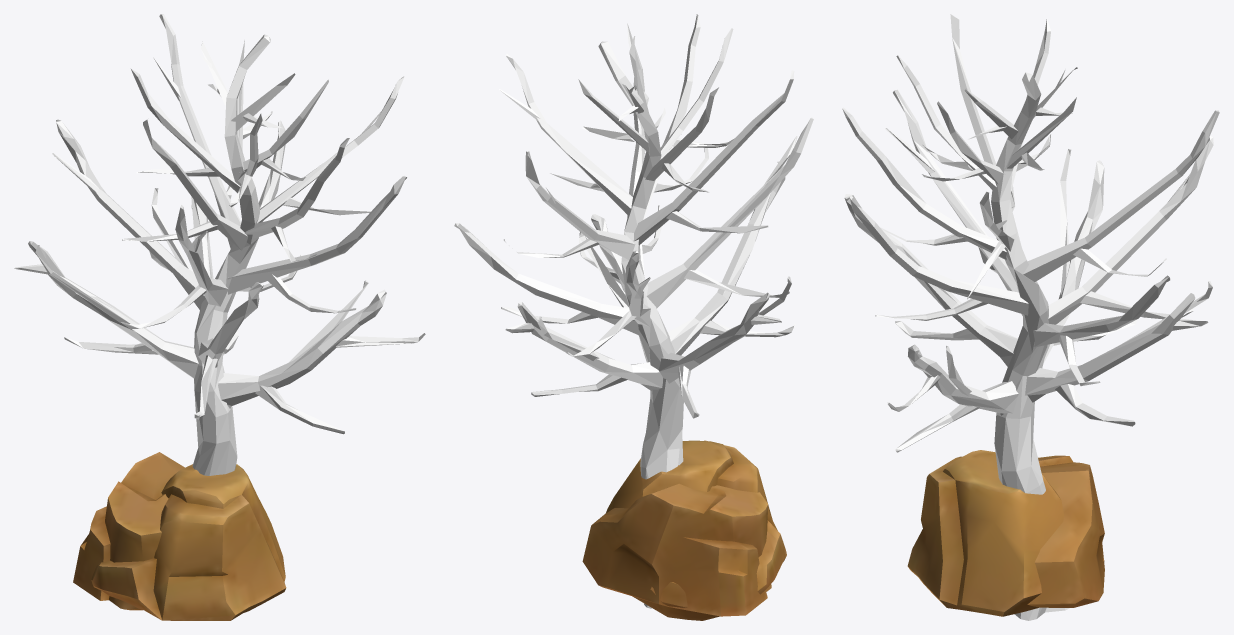
File: dunes-kit.glb
The picture shows the model from 3 angles, left to right: view 1: azimuth 30°, elevation 25°; view 2: azimuth 150°, elevation 25°; view 3: azimuth 270°, elevation 25°; orthographic projection. The views are drawn at different scales.
Visible parts, largest first — view 1: DeadTree_1, Rock_Medium_1, Rock_Medium_2; view 2: DeadTree_1, Rock_Medium_2, Rock_Medium_1; view 3: DeadTree_1, Rock_Medium_1, Rock_Medium_2.
Part boxes in pixels (box(x1,y1,x2,y2)): DeadTree_1: box(14, 14, 425, 475); Rock_Medium_1: box(91, 464, 286, 620); Rock_Medium_2: box(73, 452, 184, 610); DeadTree_1: box(454, 14, 813, 608); Rock_Medium_2: box(582, 483, 771, 616); Rock_Medium_1: box(605, 440, 786, 620); DeadTree_1: box(842, 14, 1219, 620); Rock_Medium_1: box(907, 450, 1104, 616); Rock_Medium_2: box(1027, 455, 1104, 607).
Size of the model in its own units: 6.12 by 9.5 by 5.74.
Materials: 3 (1 with a texture image).
